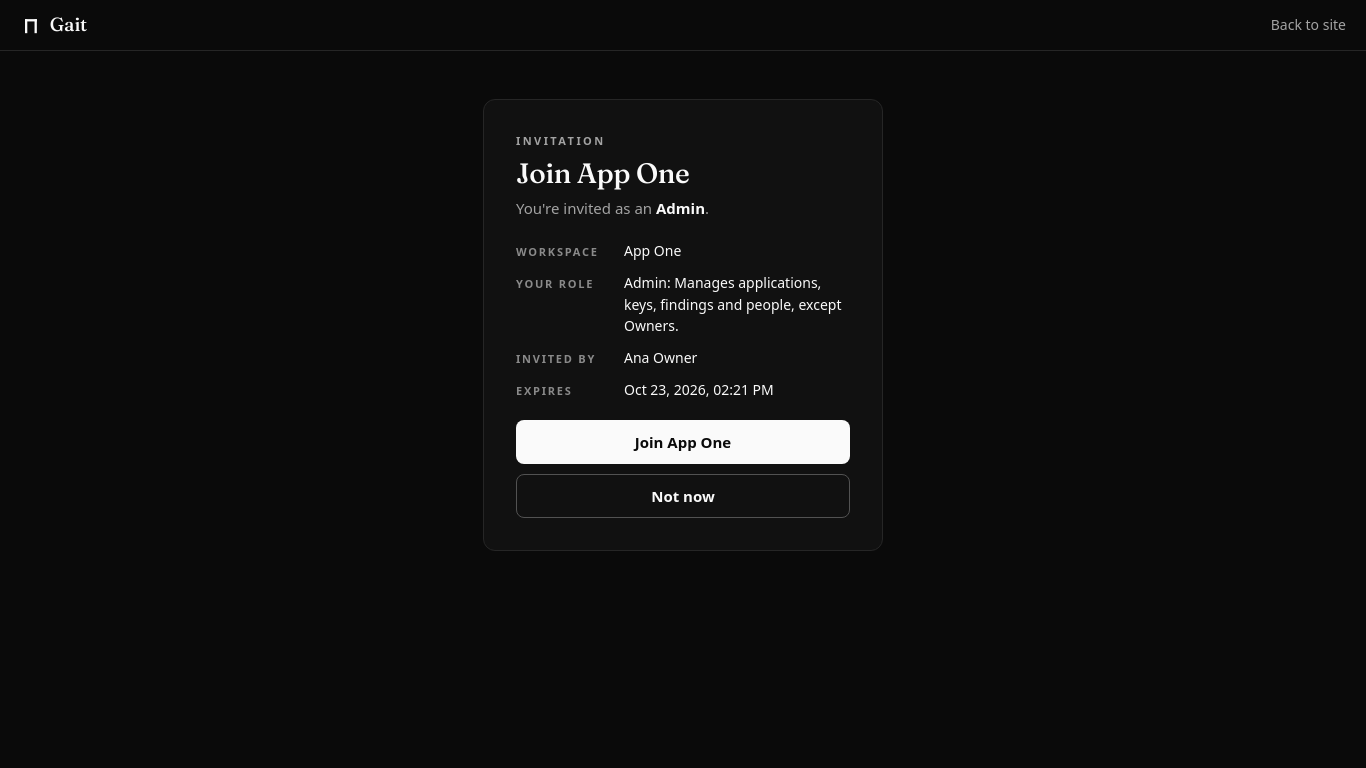
Test case: signed in › Gait refusing the join with ALREADY_MEMBER
This screenshot has width=1366, height=768.
Step 1. Click the button "Join App One" → coordinates (683, 442), box [516,420,850,464]
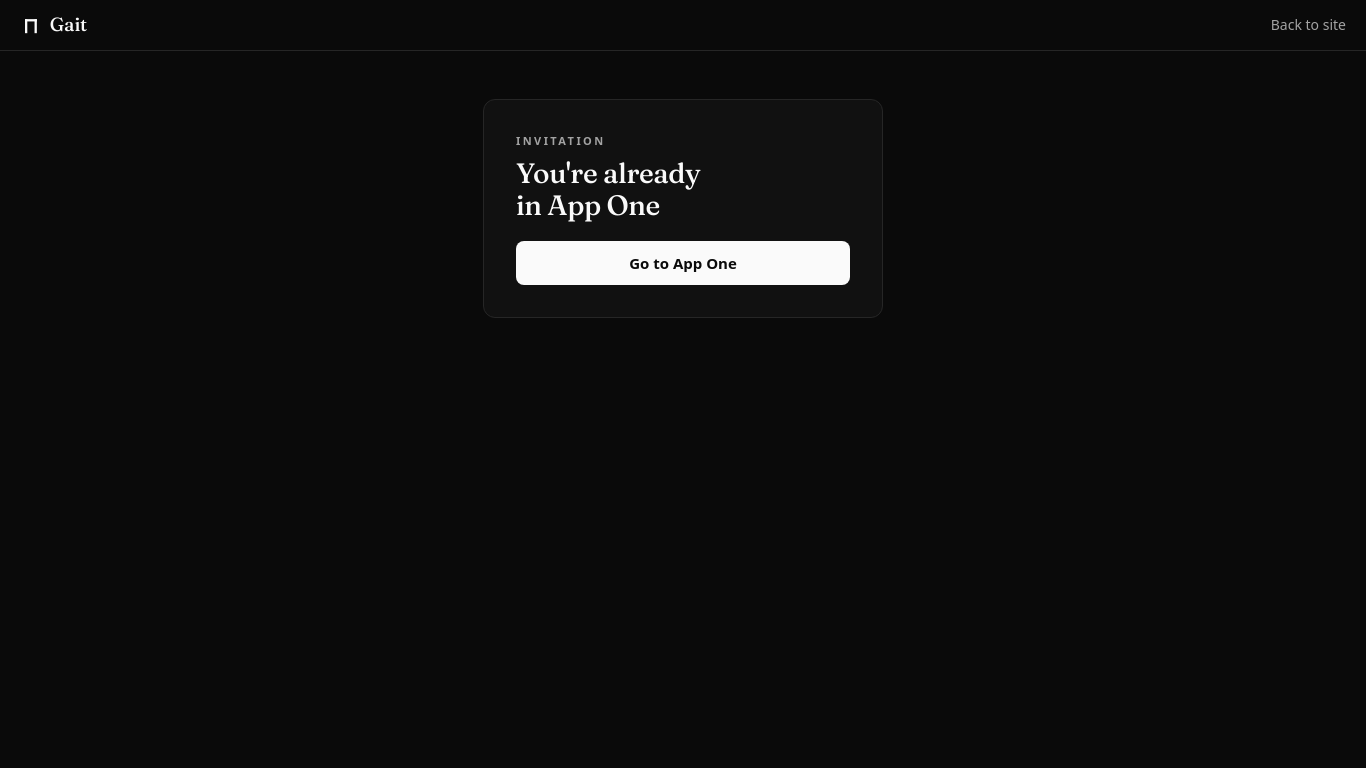
Now the heading "You're already in App One" is shown, box [516,156,700,222]
